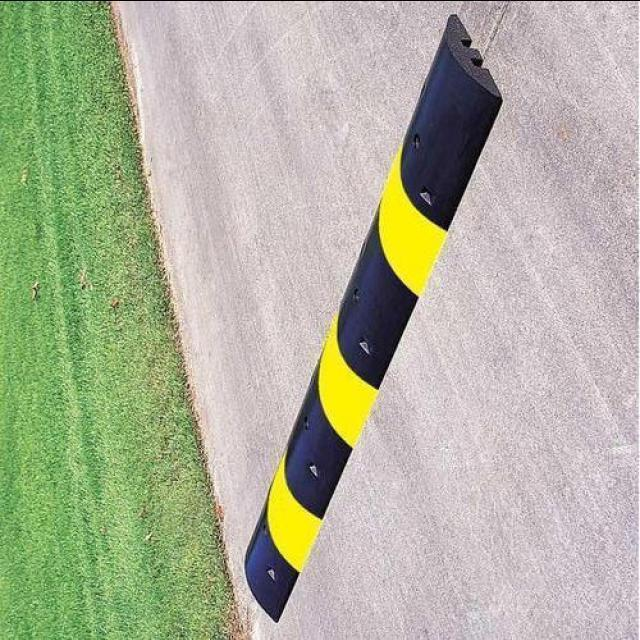speedbreaker: (236, 16, 496, 623)
